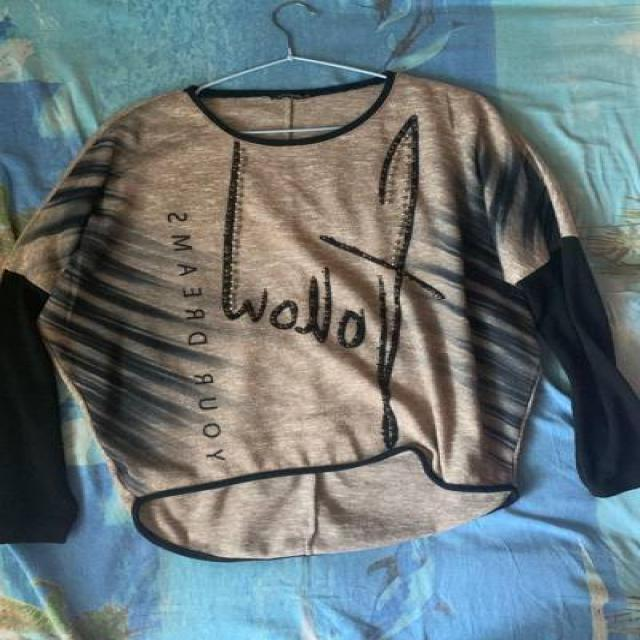Clothes -Biodegradable-: (0, 72, 640, 570)
